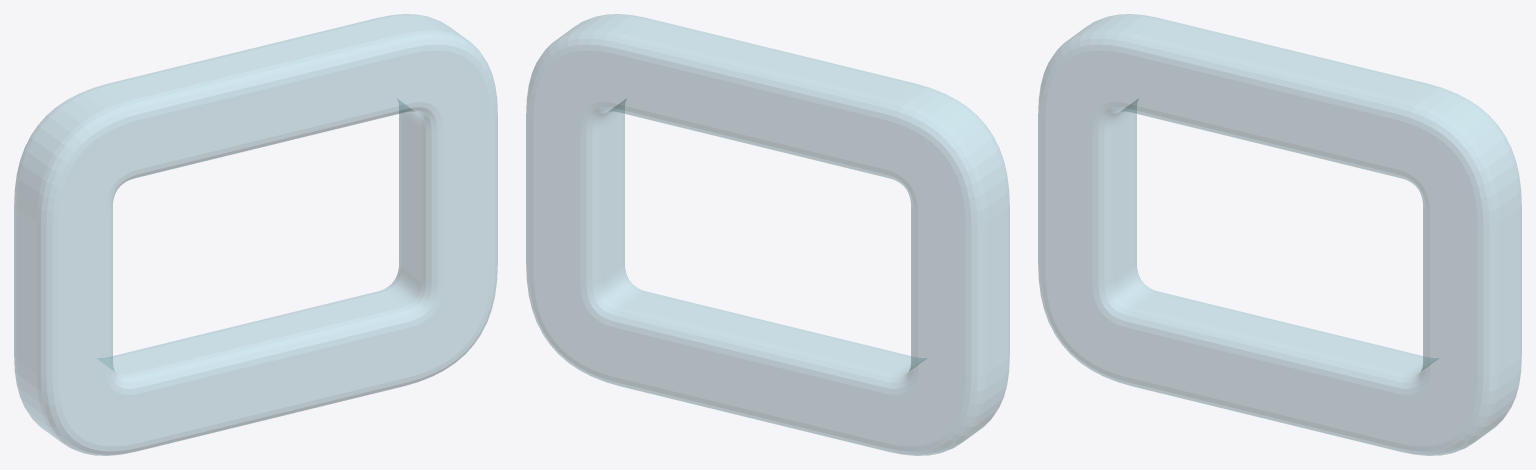
The picture shows the model from 3 angles, left to right: view 1: azimuth 30°, elevation 25°; view 2: azimuth 150°, elevation 25°; view 3: azimuth 330°, elevation 25°; orthographic projection.
Visible parts, largest first — view 1: rounded-frame; view 2: rounded-frame; view 3: rounded-frame.
Boxes of the visible parts, bbox=[...] form: rounded-frame: bbox=[14, 14, 497, 455]; rounded-frame: bbox=[526, 14, 1009, 455]; rounded-frame: bbox=[1038, 14, 1521, 455].
Size of the model in its own units: 2.23 by 1.63 by 0.31.
